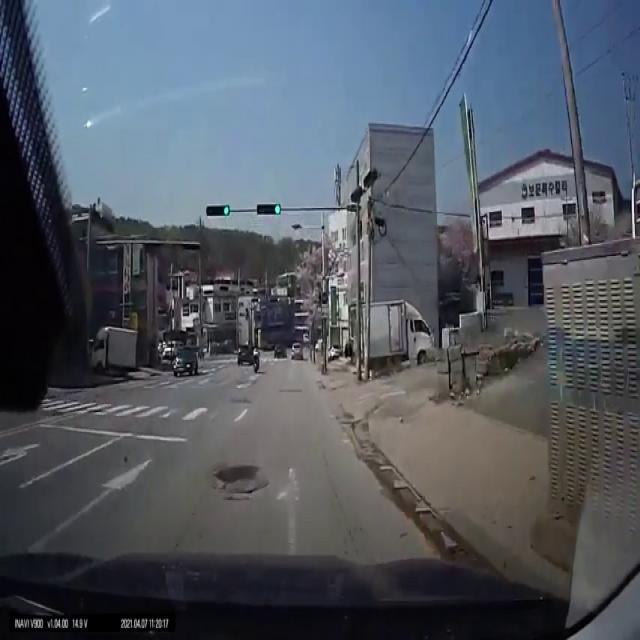Pothole: (214, 460, 264, 485)
